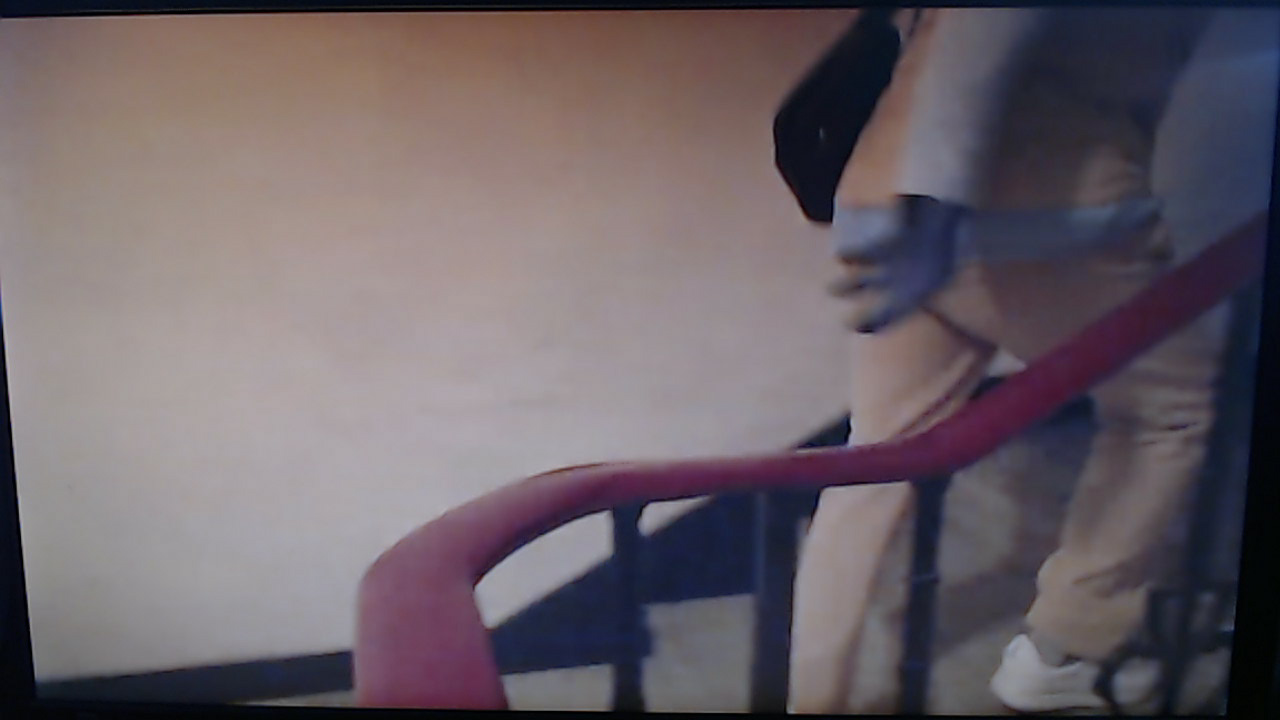Yakurut: (748, 15, 1246, 714)
